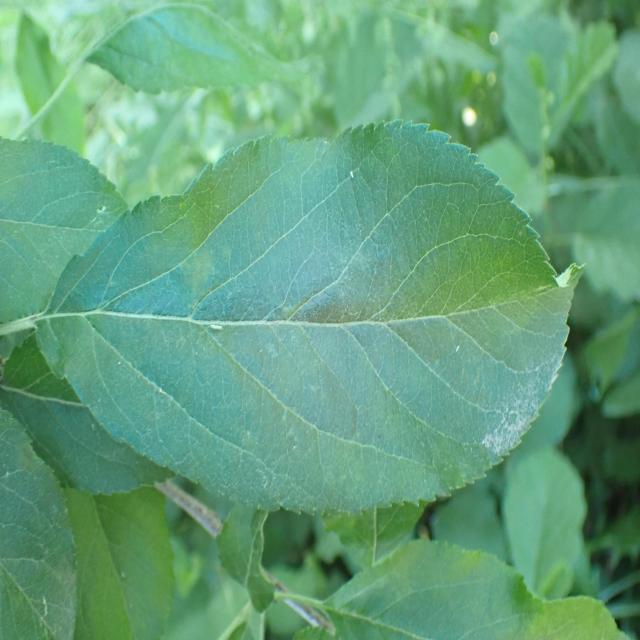scab: (105, 186, 496, 472), (15, 434, 104, 640)
